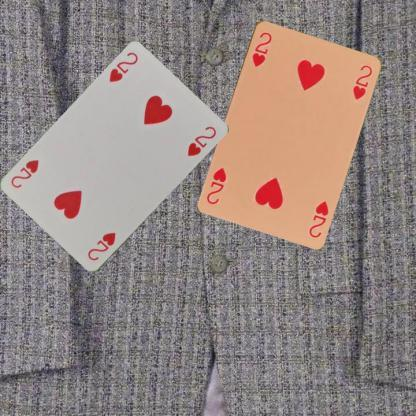2h: (84, 230, 118, 263), (106, 50, 140, 83), (306, 198, 330, 239), (249, 29, 273, 68)
